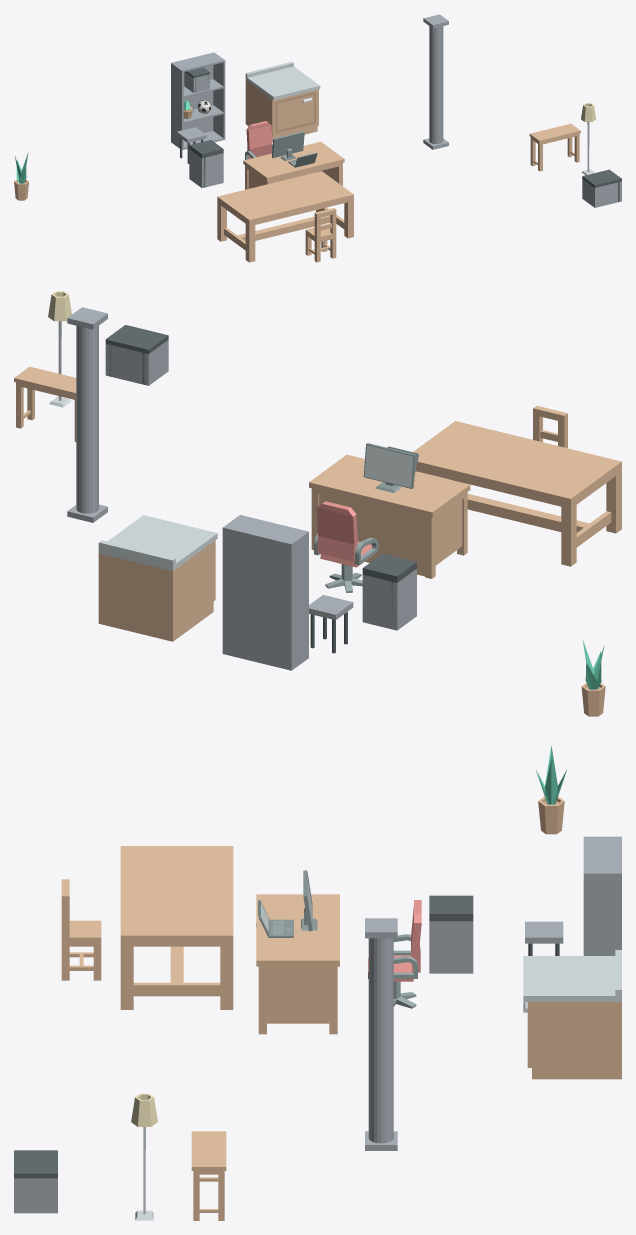
3 renders of one model, top to bottom at view 1: azimuth 30°, elevation 25°; view 2: azimuth 150°, elevation 25°; view 3: azimuth 270°, elevation 25°, orthographic. The views are drawn at different scales.
Parts seen in each view (by area): view 1: table_green__table(Clone), cabinet_blue__kitchenCabinet(Clone), desk_blue__desk(Clone), column_cyan__column_cyan shaft, cabinet_blue__door, chair_cyan__chair(Clone), sidetable_brown__sideTable(Clone), bin_gray__bin_gray shell, shelf_orange__shelf_orange side_l, deskchair_black__chair, shelf_orange__shelf_orange side_r, crate_red__crate_red shell (+7 smaller); view 2: table_green__table(Clone), cabinet_blue__kitchenCabinet(Clone), desk_blue__desk(Clone), shelf_orange__shelf_orange back, column_cyan__column_cyan shaft, deskchair_black__chair, bin_gray__bin_gray shell, shelf_orange__shelf_orange side_l, crate_red__crate_red shell, sidetable_brown__sideTable(Clone), monitor_gray__computerScreen(Clone), crate_red__crate_red lid (+8 smaller); view 3: table_green__table(Clone), cabinet_blue__kitchenCabinet(Clone), desk_blue__desk(Clone), column_cyan__column_cyan shaft, shelf_orange__shelf_orange side_r, chair_cyan__chair(Clone), bin_gray__bin_gray shell, sidetable_brown__sideTable(Clone), crate_red__crate_red shell, deskchair_black__chair, shelf_orange__shelf_orange board3, crate_red__crate_red lid (+7 smaller).
Boxes of the visible parts, <box> form: table_green__table(Clone): <box>217,171,353,262</box>; cabinet_blue__kitchenCabinet(Clone): <box>245,62,320,142</box>; desk_blue__desk(Clone): <box>243,141,344,189</box>; column_cyan__column_cyan shaft: <box>429,26,443,143</box>; cabinet_blue__door: <box>275,92,315,133</box>; chair_cyan__chair(Clone): <box>305,208,336,262</box>; sidetable_brown__sideTable(Clone): <box>529,123,580,171</box>; bin_gray__bin_gray shell: <box>189,149,223,187</box>; shelf_orange__shelf_orange side_l: <box>171,62,183,149</box>; deskchair_black__chair: <box>245,121,272,159</box>; shelf_orange__shelf_orange side_r: <box>213,52,225,139</box>; crate_red__crate_red shell: <box>582,179,621,207</box>; table_green__table(Clone): <box>413,421,621,566</box>; cabinet_blue__kitchenCabinet(Clone): <box>98,515,217,641</box>; desk_blue__desk(Clone): <box>309,454,470,578</box>; shelf_orange__shelf_orange back: <box>225,527,289,669</box>; column_cyan__column_cyan shaft: <box>76,326,98,513</box>; deskchair_black__chair: <box>314,501,378,567</box>; bin_gray__bin_gray shell: <box>362,569,416,630</box>; shelf_orange__shelf_orange side_l: <box>289,531,308,670</box>; crate_red__crate_red shell: <box>105,340,168,385</box>; sidetable_brown__sideTable(Clone): <box>14,366,76,441</box>; monitor_gray__computerScreen(Clone): <box>363,443,415,492</box>; crate_red__crate_red lid: <box>105,325,168,353</box>; table_green__table(Clone): <box>120,846,233,1009</box>; cabinet_blue__kitchenCabinet(Clone): <box>523,950,621,1079</box>; desk_blue__desk(Clone): <box>256,894,339,1034</box>; column_cyan__column_cyan shaft: <box>368,938,393,1143</box>; shelf_orange__shelf_orange side_r: <box>583,872,621,955</box>; chair_cyan__chair(Clone): <box>61,879,101,980</box>; bin_gray__bin_gray shell: <box>429,921,473,973</box>; sidetable_brown__sideTable(Clone): <box>191,1131,226,1220</box>; crate_red__crate_red shell: <box>14,1178,57,1213</box>; deskchair_black__chair: <box>368,900,421,981</box>; shelf_orange__shelf_orange board3: <box>583,838,619,872</box>; crate_red__crate_red lid: <box>14,1150,57,1178</box>.
Size of the model in its own units: 8.56 by 2.2 by 5.54.
